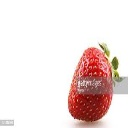strawberry: (68, 41, 121, 123)
